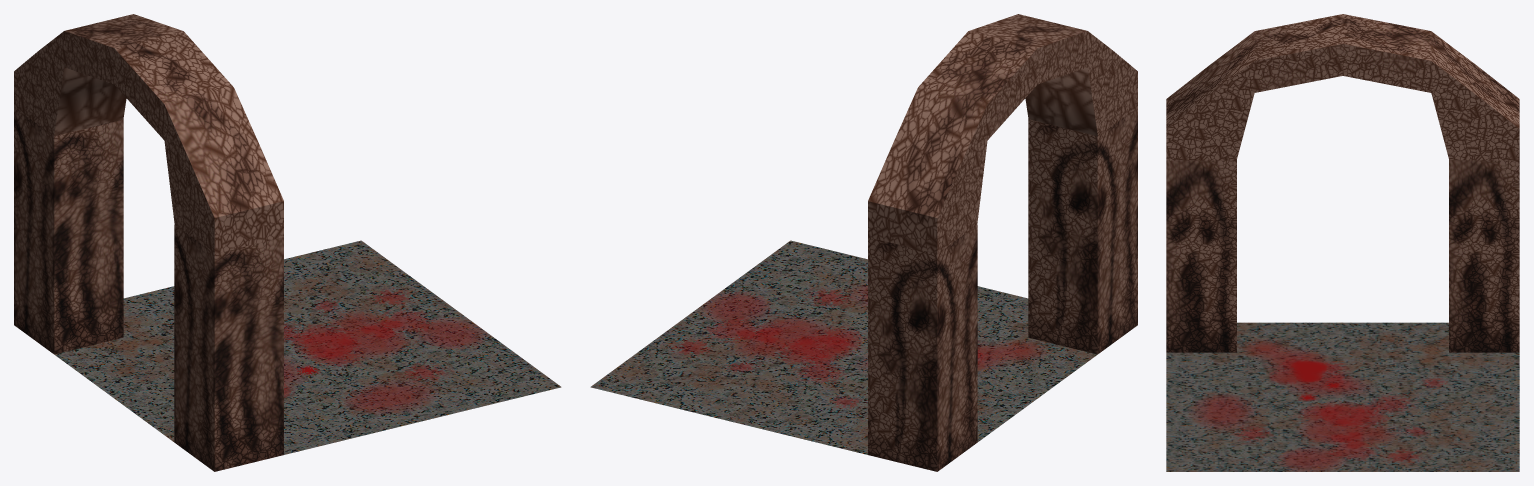
The model's file is Teleporter.fbx.
3 views of the same model, side by side, from view 1: azimuth 30°, elevation 25°; view 2: azimuth 150°, elevation 25°; view 3: azimuth 270°, elevation 25° (orthographic). The views are drawn at different scales.
Parts seen in each view (by area): view 1: Teleporter; view 2: Teleporter; view 3: Teleporter.
Boxes of the visible parts, x1,y1,x2,y2 form: Teleporter: [14, 14, 561, 471]; Teleporter: [590, 14, 1137, 471]; Teleporter: [1166, 14, 1519, 471].
Size of the model in its own units: 100 by 96.41 by 100.
Materials: 1 (1 with a texture image).
